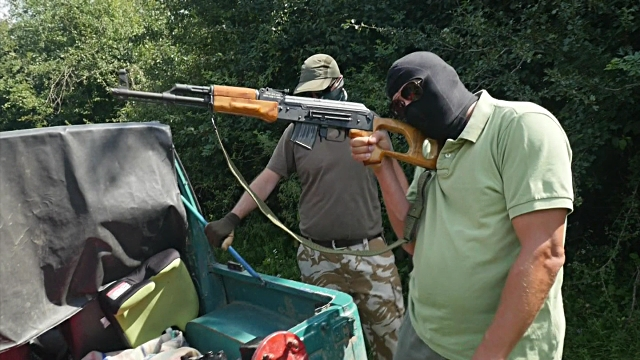rifle: (103, 64, 451, 177)
